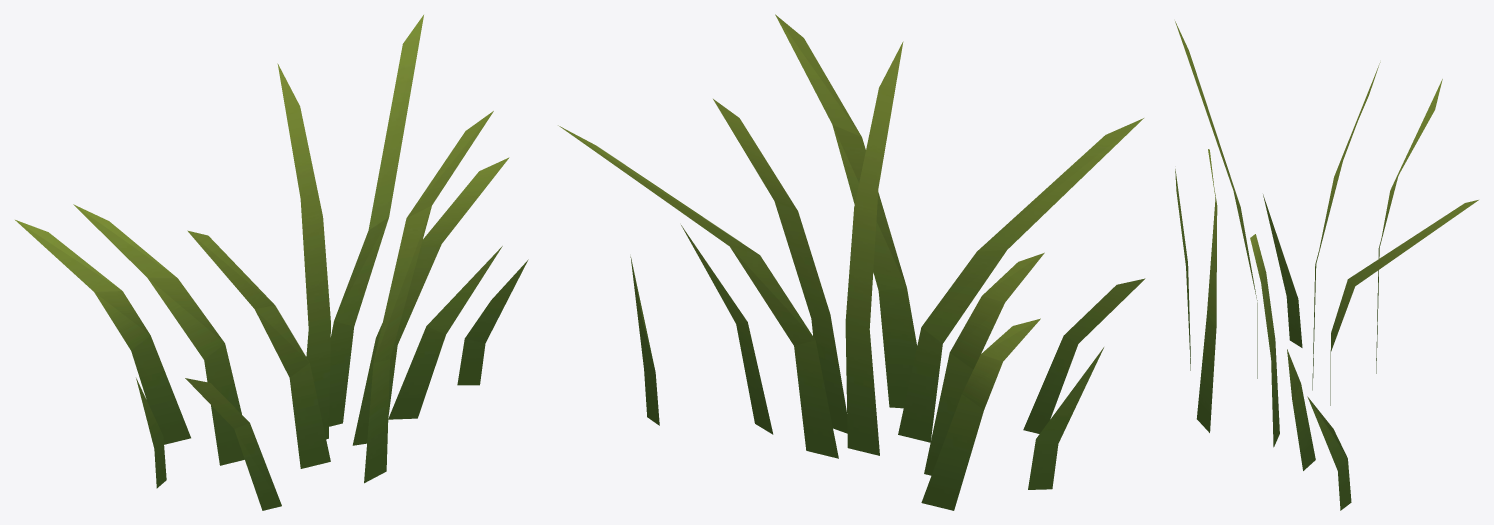
File: Grass_Small.glb
3 views of the same model, side by side, from view 1: azimuth 30°, elevation 25°; view 2: azimuth 150°, elevation 25°; view 3: azimuth 270°, elevation 25° (orthographic). The views are drawn at different scales.
Bounding box in the file's own units: 0.47 × 0.3941 × 0.2775.
Materials: 1 (1 with a texture image).
